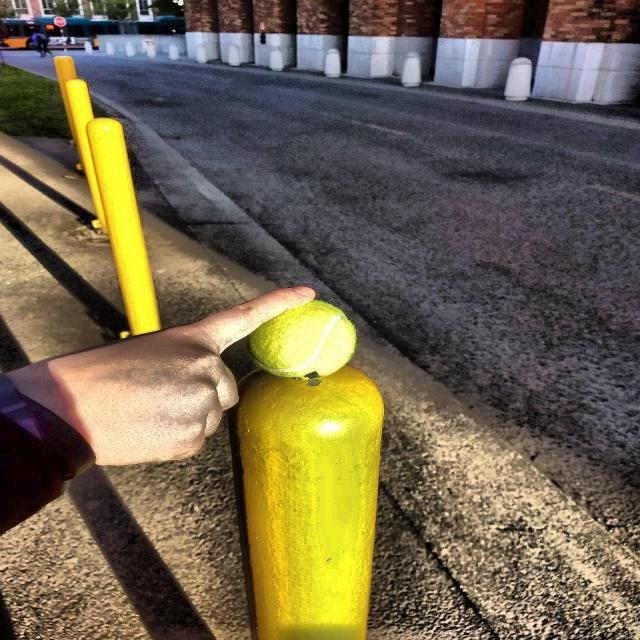tennis-ball: (248, 294, 366, 388)
